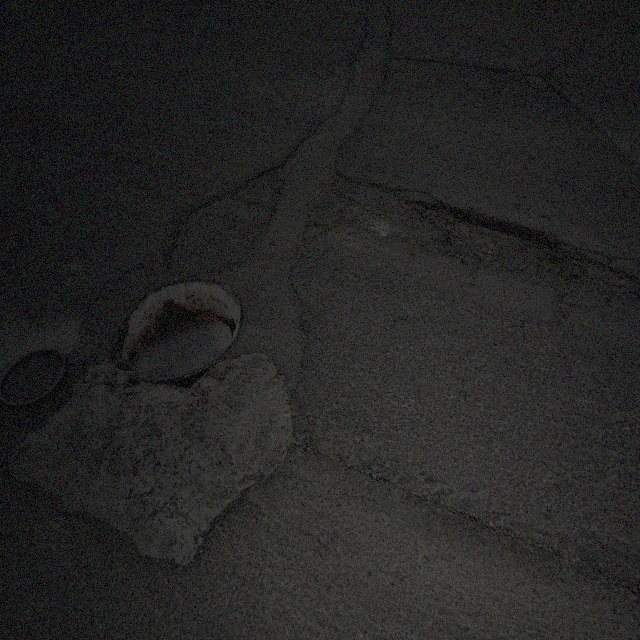pothole: (404, 193, 566, 288), (115, 271, 241, 377)
